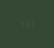one: (29, 19, 33, 27)
seven: (18, 20, 22, 28)
six: (24, 20, 28, 27)
